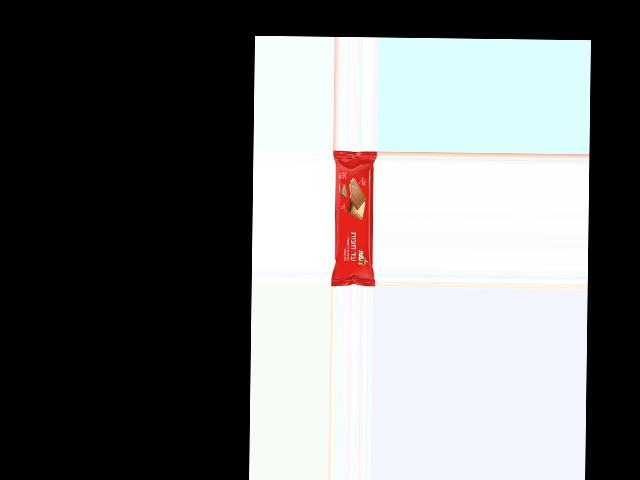chocolate: (330, 152, 376, 283)
